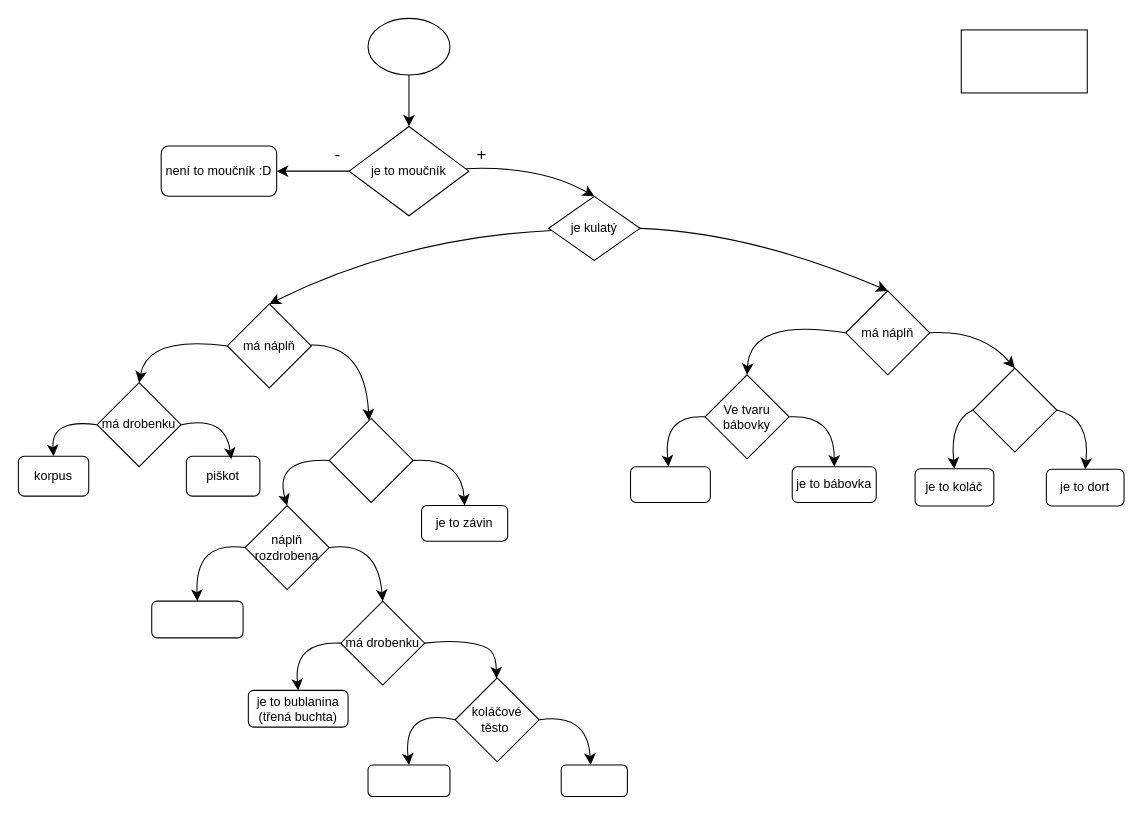
Image size: 1142x815. Some labels were removed from this diagram. Each missing label, with the centre of its shape:
beránek: point (669, 484)
Cukroví muffiny kobliha - pečivo?: point (1023, 61)
je to buchta: point (197, 619)
je to táč: point (408, 780)
slepen ze dvou částí: point (1014, 409)
START: point (408, 46)
svinutý plát těsta: point (370, 459)
řez: point (593, 780)
